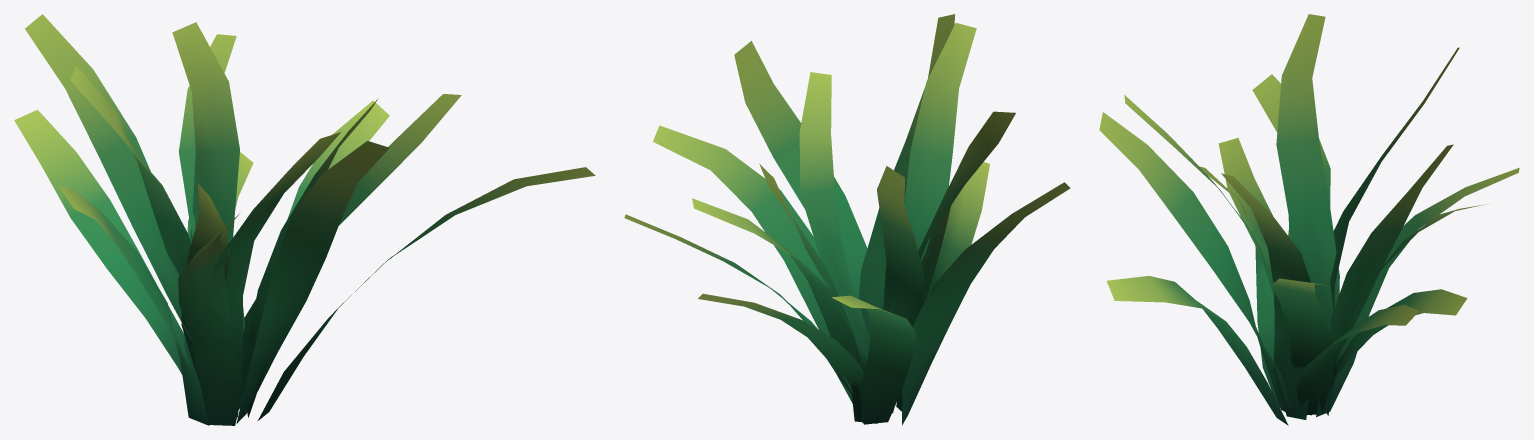
File: seagrass.glb
The picture shows the model from 3 angles, left to right: view 1: azimuth 30°, elevation 25°; view 2: azimuth 150°, elevation 25°; view 3: azimuth 270°, elevation 25°; orthographic projection. The views are drawn at different scales.
Visible parts, largest first — view 1: seagrass; view 2: seagrass; view 3: seagrass.
Part boxes in pixels (bbox=[...]): seagrass: bbox=[14, 14, 595, 425]; seagrass: bbox=[624, 14, 1070, 425]; seagrass: bbox=[1099, 14, 1519, 425].
Bounding box in the file's own units: 0.754 × 0.6 × 0.6842.
